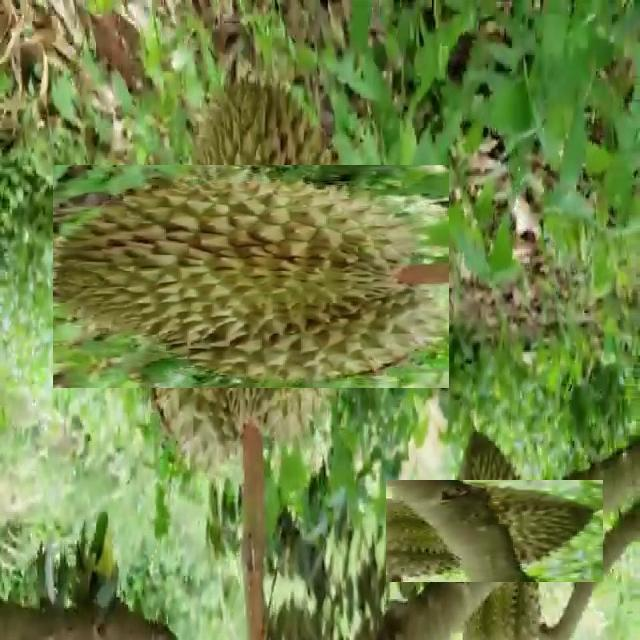durian: (96, 122, 406, 432), (415, 451, 575, 611)
